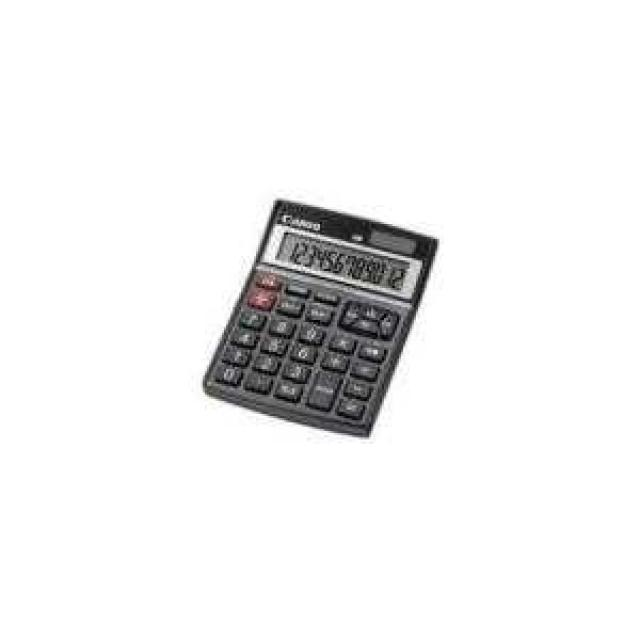Calculator: (200, 196, 440, 440)
